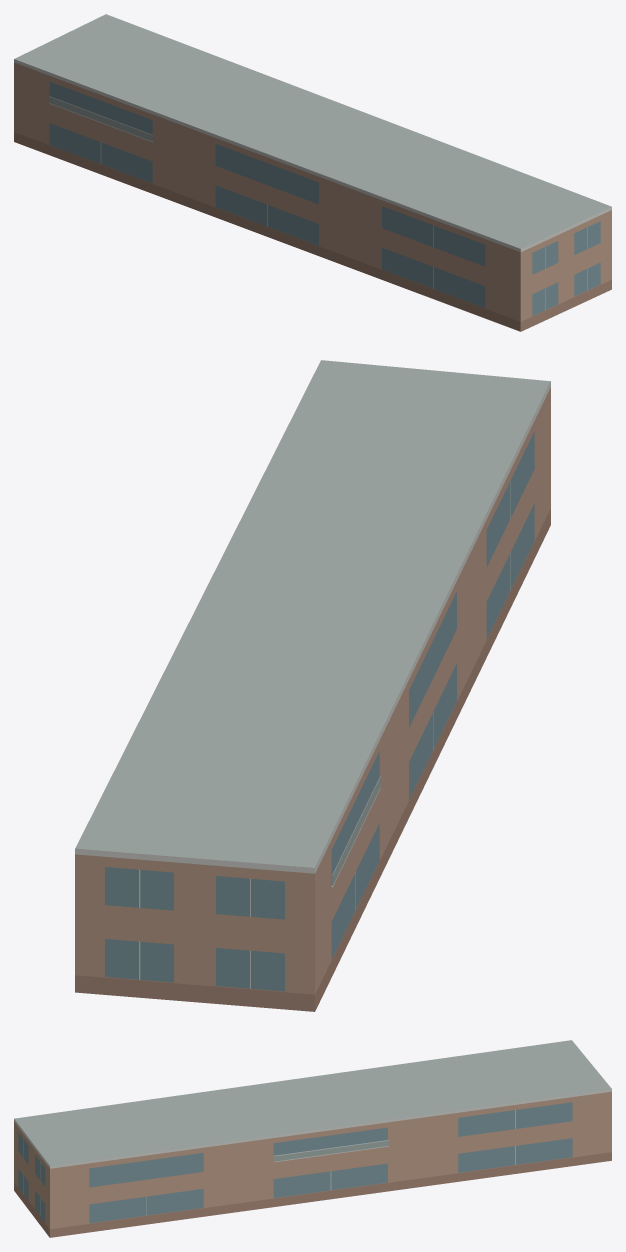
File: survey-upis-32723878.glb
3 renders of one model, top to bottom at view 1: azimuth 30°, elevation 25°; view 2: azimuth 150°, elevation 25°; view 3: azimuth 270°, elevation 25°, orthographic. The views are drawn at different scales.
Visible parts, largest first — view 1: survey-upis-32723878.tmp; view 2: survey-upis-32723878.tmp; view 3: survey-upis-32723878.tmp.
Boxes of the visible parts, x1=… form: survey-upis-32723878.tmp: x1=14, y1=14, x2=611, y2=331; survey-upis-32723878.tmp: x1=75, y1=360, x2=550, y2=1011; survey-upis-32723878.tmp: x1=14, y1=1040, x2=611, y2=1237.
Bounding box in the file's own units: 22.91 × 6.1 × 45.97.
